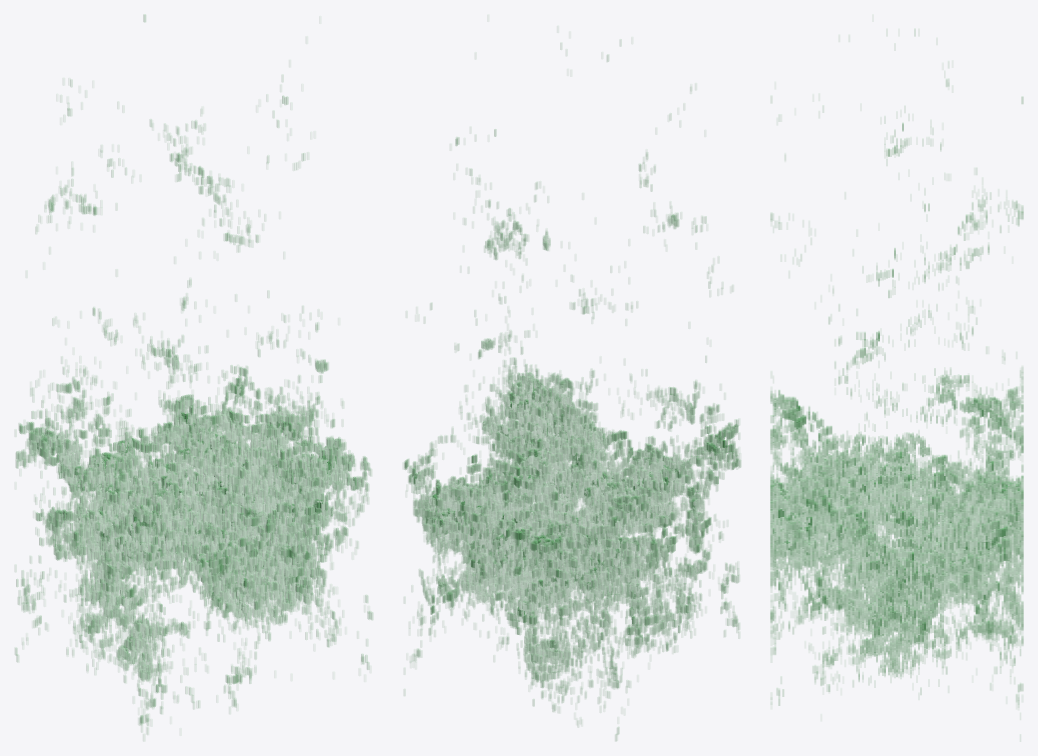
File: 125_voxel_128_native.glb
The picture shows the model from 3 angles, left to right: view 1: azimuth 30°, elevation 25°; view 2: azimuth 150°, elevation 25°; view 3: azimuth 270°, elevation 25°; orthographic projection. The views are drawn at different scales.
Bounding box in the file's own units: 0.4961 × 1.41 × 0.4961.
1 material, 1 textured.
